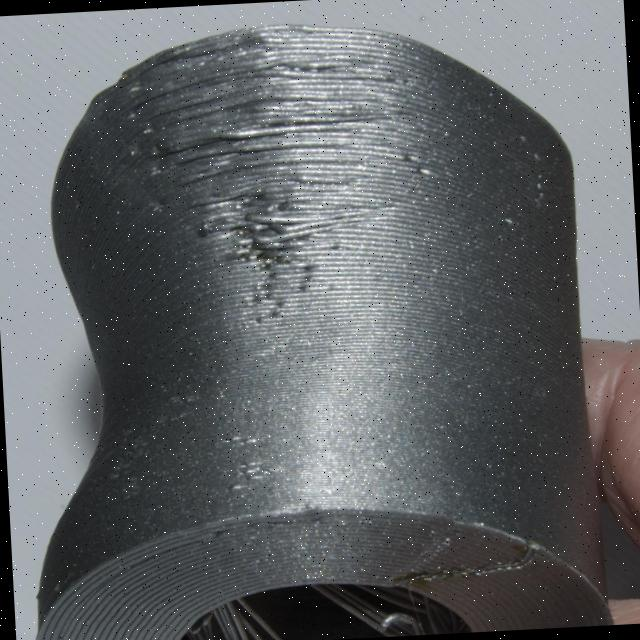cracks: (84, 17, 435, 350)
